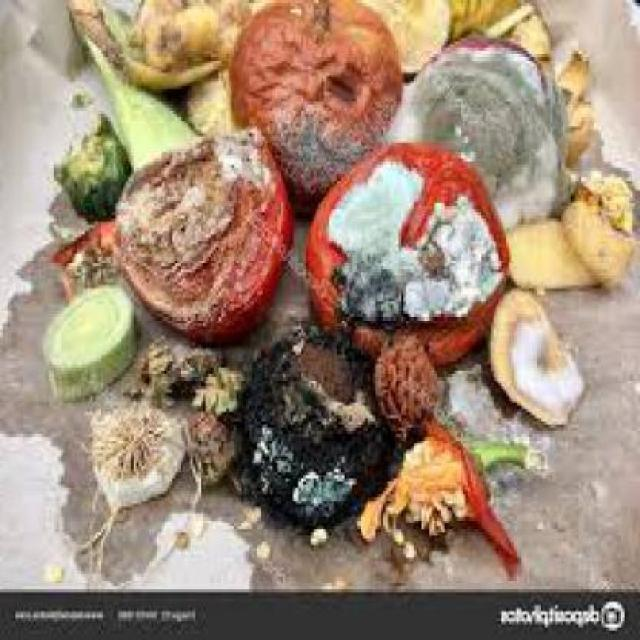BIODEGRADABLE: (306, 140, 514, 368), (116, 124, 298, 336), (392, 28, 573, 228), (234, 0, 403, 212), (246, 320, 406, 520), (357, 418, 529, 567), (72, 0, 206, 168), (84, 403, 188, 548), (86, 0, 254, 86), (493, 285, 592, 424), (50, 279, 138, 399), (563, 168, 639, 277), (57, 108, 131, 215), (376, 329, 444, 437), (506, 214, 602, 286), (364, 0, 458, 71), (452, 0, 552, 54), (56, 212, 121, 292), (185, 408, 244, 488), (144, 342, 233, 393), (558, 51, 596, 168), (191, 63, 234, 134), (180, 3, 229, 57), (200, 361, 249, 408), (140, 9, 178, 57), (313, 526, 335, 545), (406, 535, 422, 554), (260, 535, 275, 554), (396, 526, 409, 539)
